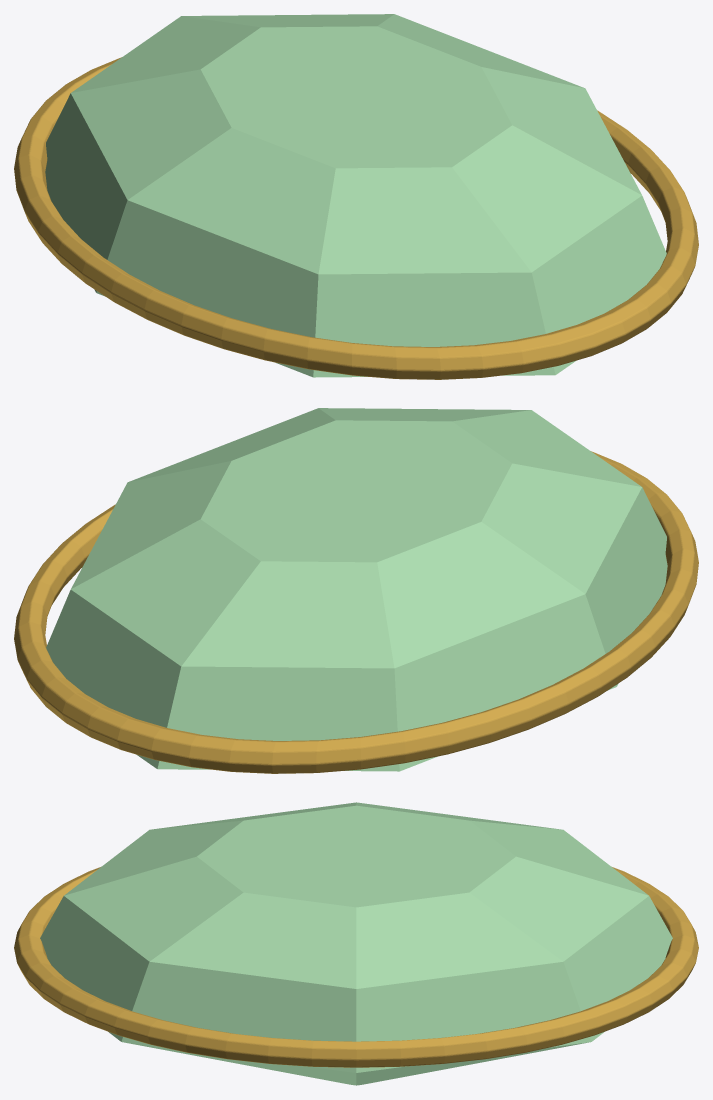
3 views of the same model, one above another, from view 1: azimuth 30°, elevation 25°; view 2: azimuth 150°, elevation 25°; view 3: azimuth 270°, elevation 25° (orthographic). The views are drawn at different scales.
Parts seen in each view (by area): view 1: TI018 / octagonal square emerald, TI018 / white gold bezel; view 2: TI018 / octagonal square emerald, TI018 / white gold bezel; view 3: TI018 / octagonal square emerald, TI018 / white gold bezel.
Part boxes in pixels (box(x1,y1,x2,y2)): TI018 / octagonal square emerald: box(45, 14, 666, 377); TI018 / white gold bezel: box(14, 57, 698, 379); TI018 / octagonal square emerald: box(46, 408, 667, 771); TI018 / white gold bezel: box(14, 451, 698, 773); TI018 / octagonal square emerald: box(40, 802, 672, 1085); TI018 / white gold bezel: box(14, 867, 698, 1067).
Bounding box in the file's own units: 2.01 × 0.9493 × 2.61.
